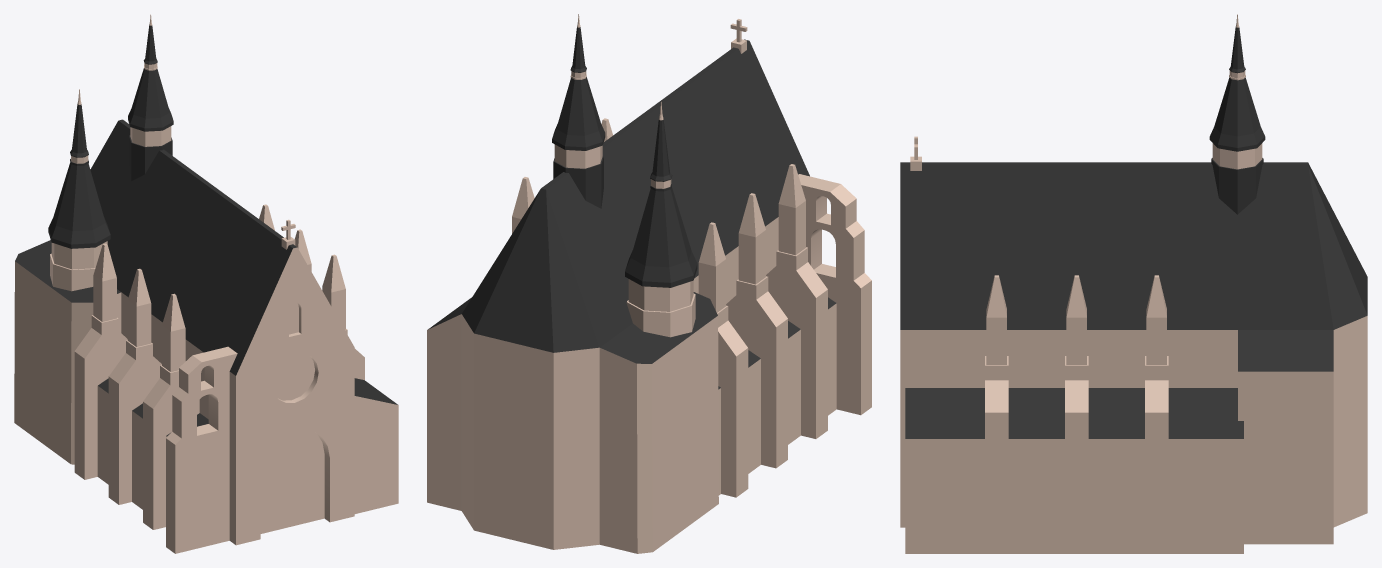
The model's file is nouveau-lieu-2_v001.glb.
The picture shows the model from 3 angles, left to right: view 1: azimuth 30°, elevation 25°; view 2: azimuth 150°, elevation 25°; view 3: azimuth 270°, elevation 25°; orthographic projection. The views are drawn at different scales.
Parts seen in each view (by area): view 1: Sainte_chapelle_Vic; view 2: Sainte_chapelle_Vic; view 3: Sainte_chapelle_Vic.
Boxes of the visible parts, <box> form: Sainte_chapelle_Vic: <box>14,14,398,553</box>; Sainte_chapelle_Vic: <box>427,14,871,553</box>; Sainte_chapelle_Vic: <box>900,14,1367,553</box>.
Bounding box in the file's own units: 22.89 × 40.98 × 36.18.
